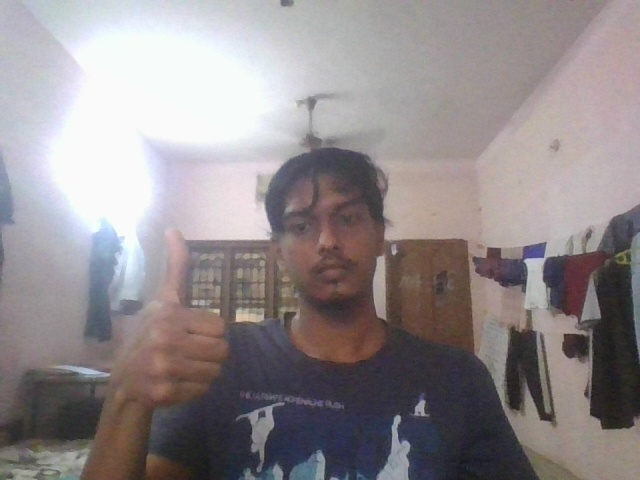thumbsup: (115, 222, 234, 420)
